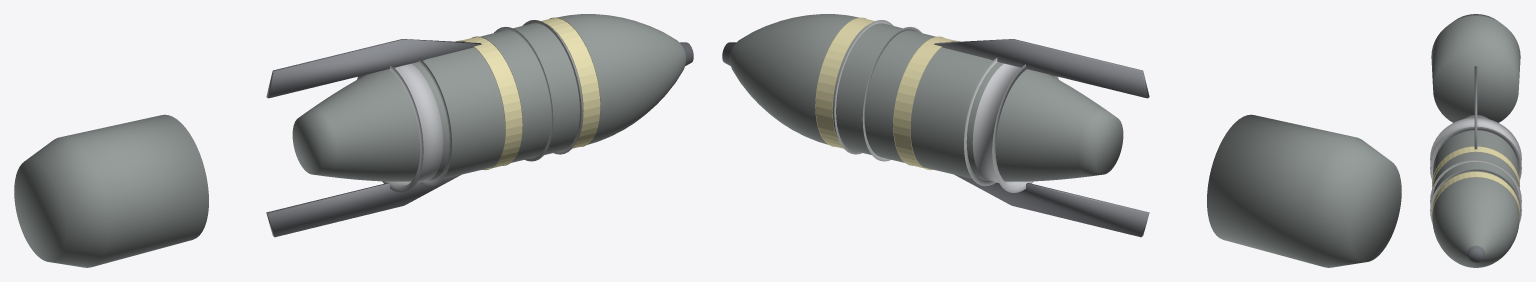
File: FR_SLBM_M4_LOD0.fbx
The picture shows the model from 3 angles, left to right: view 1: azimuth 30°, elevation 25°; view 2: azimuth 150°, elevation 25°; view 3: azimuth 270°, elevation 25°; orthographic projection. The views are drawn at different scales.
Parts seen in each view (by area): view 1: WPN_FR_SLBM_M4_LOD0_Body, WPN_FR_SLBM_M4_LOD0_Tail, WPN_FR_SLBM_M4_LOD0_Detail, WPN_FR_SLBM_M4_LOD0_Marking; view 2: WPN_FR_SLBM_M4_LOD0_Body, WPN_FR_SLBM_M4_LOD0_Tail, WPN_FR_SLBM_M4_LOD0_Detail, WPN_FR_SLBM_M4_LOD0_Marking; view 3: WPN_FR_SLBM_M4_LOD0_Body, WPN_FR_SLBM_M4_LOD0_Tail, WPN_FR_SLBM_M4_LOD0_Detail, WPN_FR_SLBM_M4_LOD0_Marking, WPN_FR_SLBM_M4_LOD0_Nose.
Boxes of the visible parts, box(x1,y1,x2,y2) form: WPN_FR_SLBM_M4_LOD0_Body: box(292, 14, 686, 181); WPN_FR_SLBM_M4_LOD0_Tail: box(14, 114, 208, 267); WPN_FR_SLBM_M4_LOD0_Detail: box(266, 20, 581, 237); WPN_FR_SLBM_M4_LOD0_Marking: box(456, 17, 600, 170); WPN_FR_SLBM_M4_LOD0_Body: box(729, 14, 1123, 181); WPN_FR_SLBM_M4_LOD0_Tail: box(1207, 114, 1401, 267); WPN_FR_SLBM_M4_LOD0_Detail: box(834, 20, 1149, 237); WPN_FR_SLBM_M4_LOD0_Marking: box(815, 17, 959, 170); WPN_FR_SLBM_M4_LOD0_Body: box(1432, 114, 1519, 267); WPN_FR_SLBM_M4_LOD0_Tail: box(1431, 14, 1520, 122); WPN_FR_SLBM_M4_LOD0_Detail: box(1430, 66, 1521, 222); WPN_FR_SLBM_M4_LOD0_Marking: box(1432, 146, 1519, 223); WPN_FR_SLBM_M4_LOD0_Nose: box(1467, 245, 1484, 262).
Bounding box in the file's own units: 11 × 2.03 × 2.68.
